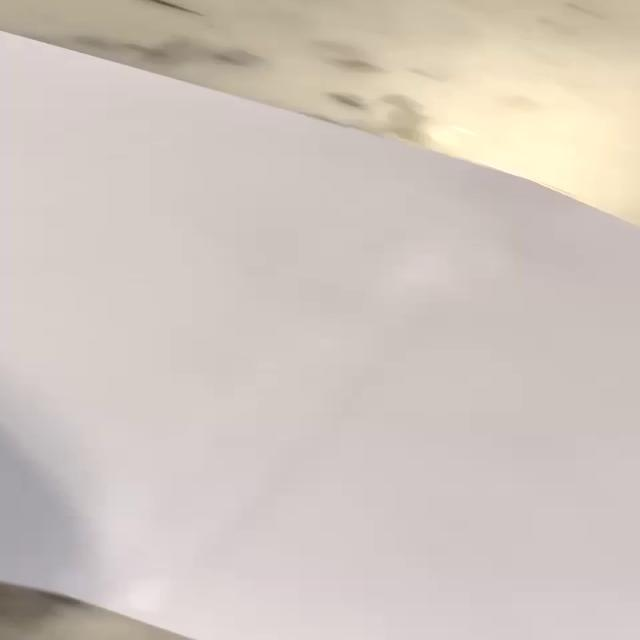road: (0, 30, 640, 640)
